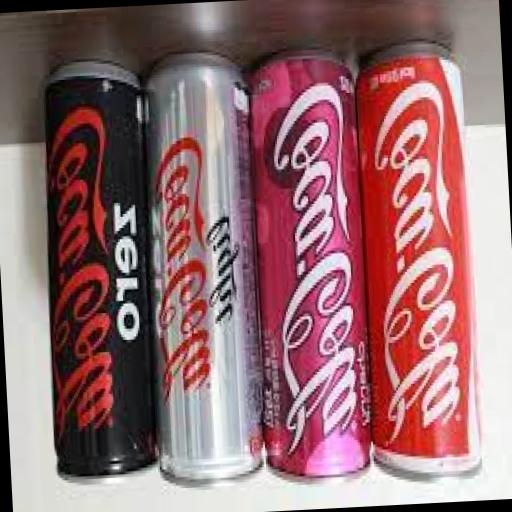Coca: (351, 38, 494, 488)
